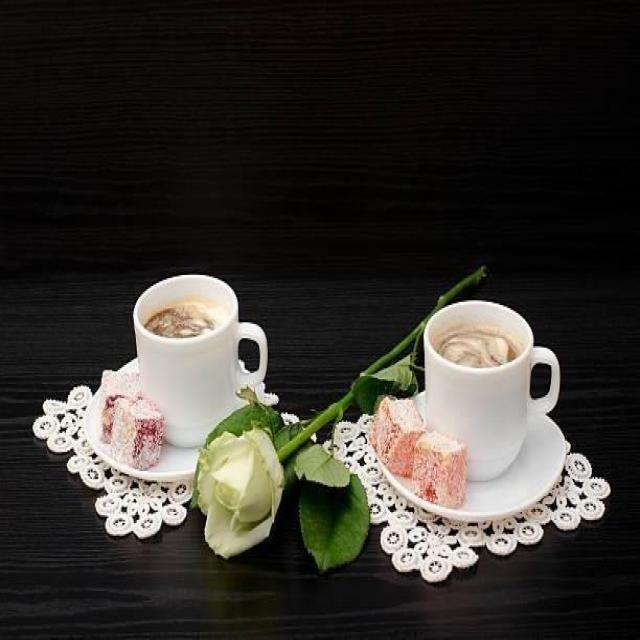cup-handle: (422, 299, 562, 482), (132, 272, 270, 450)
